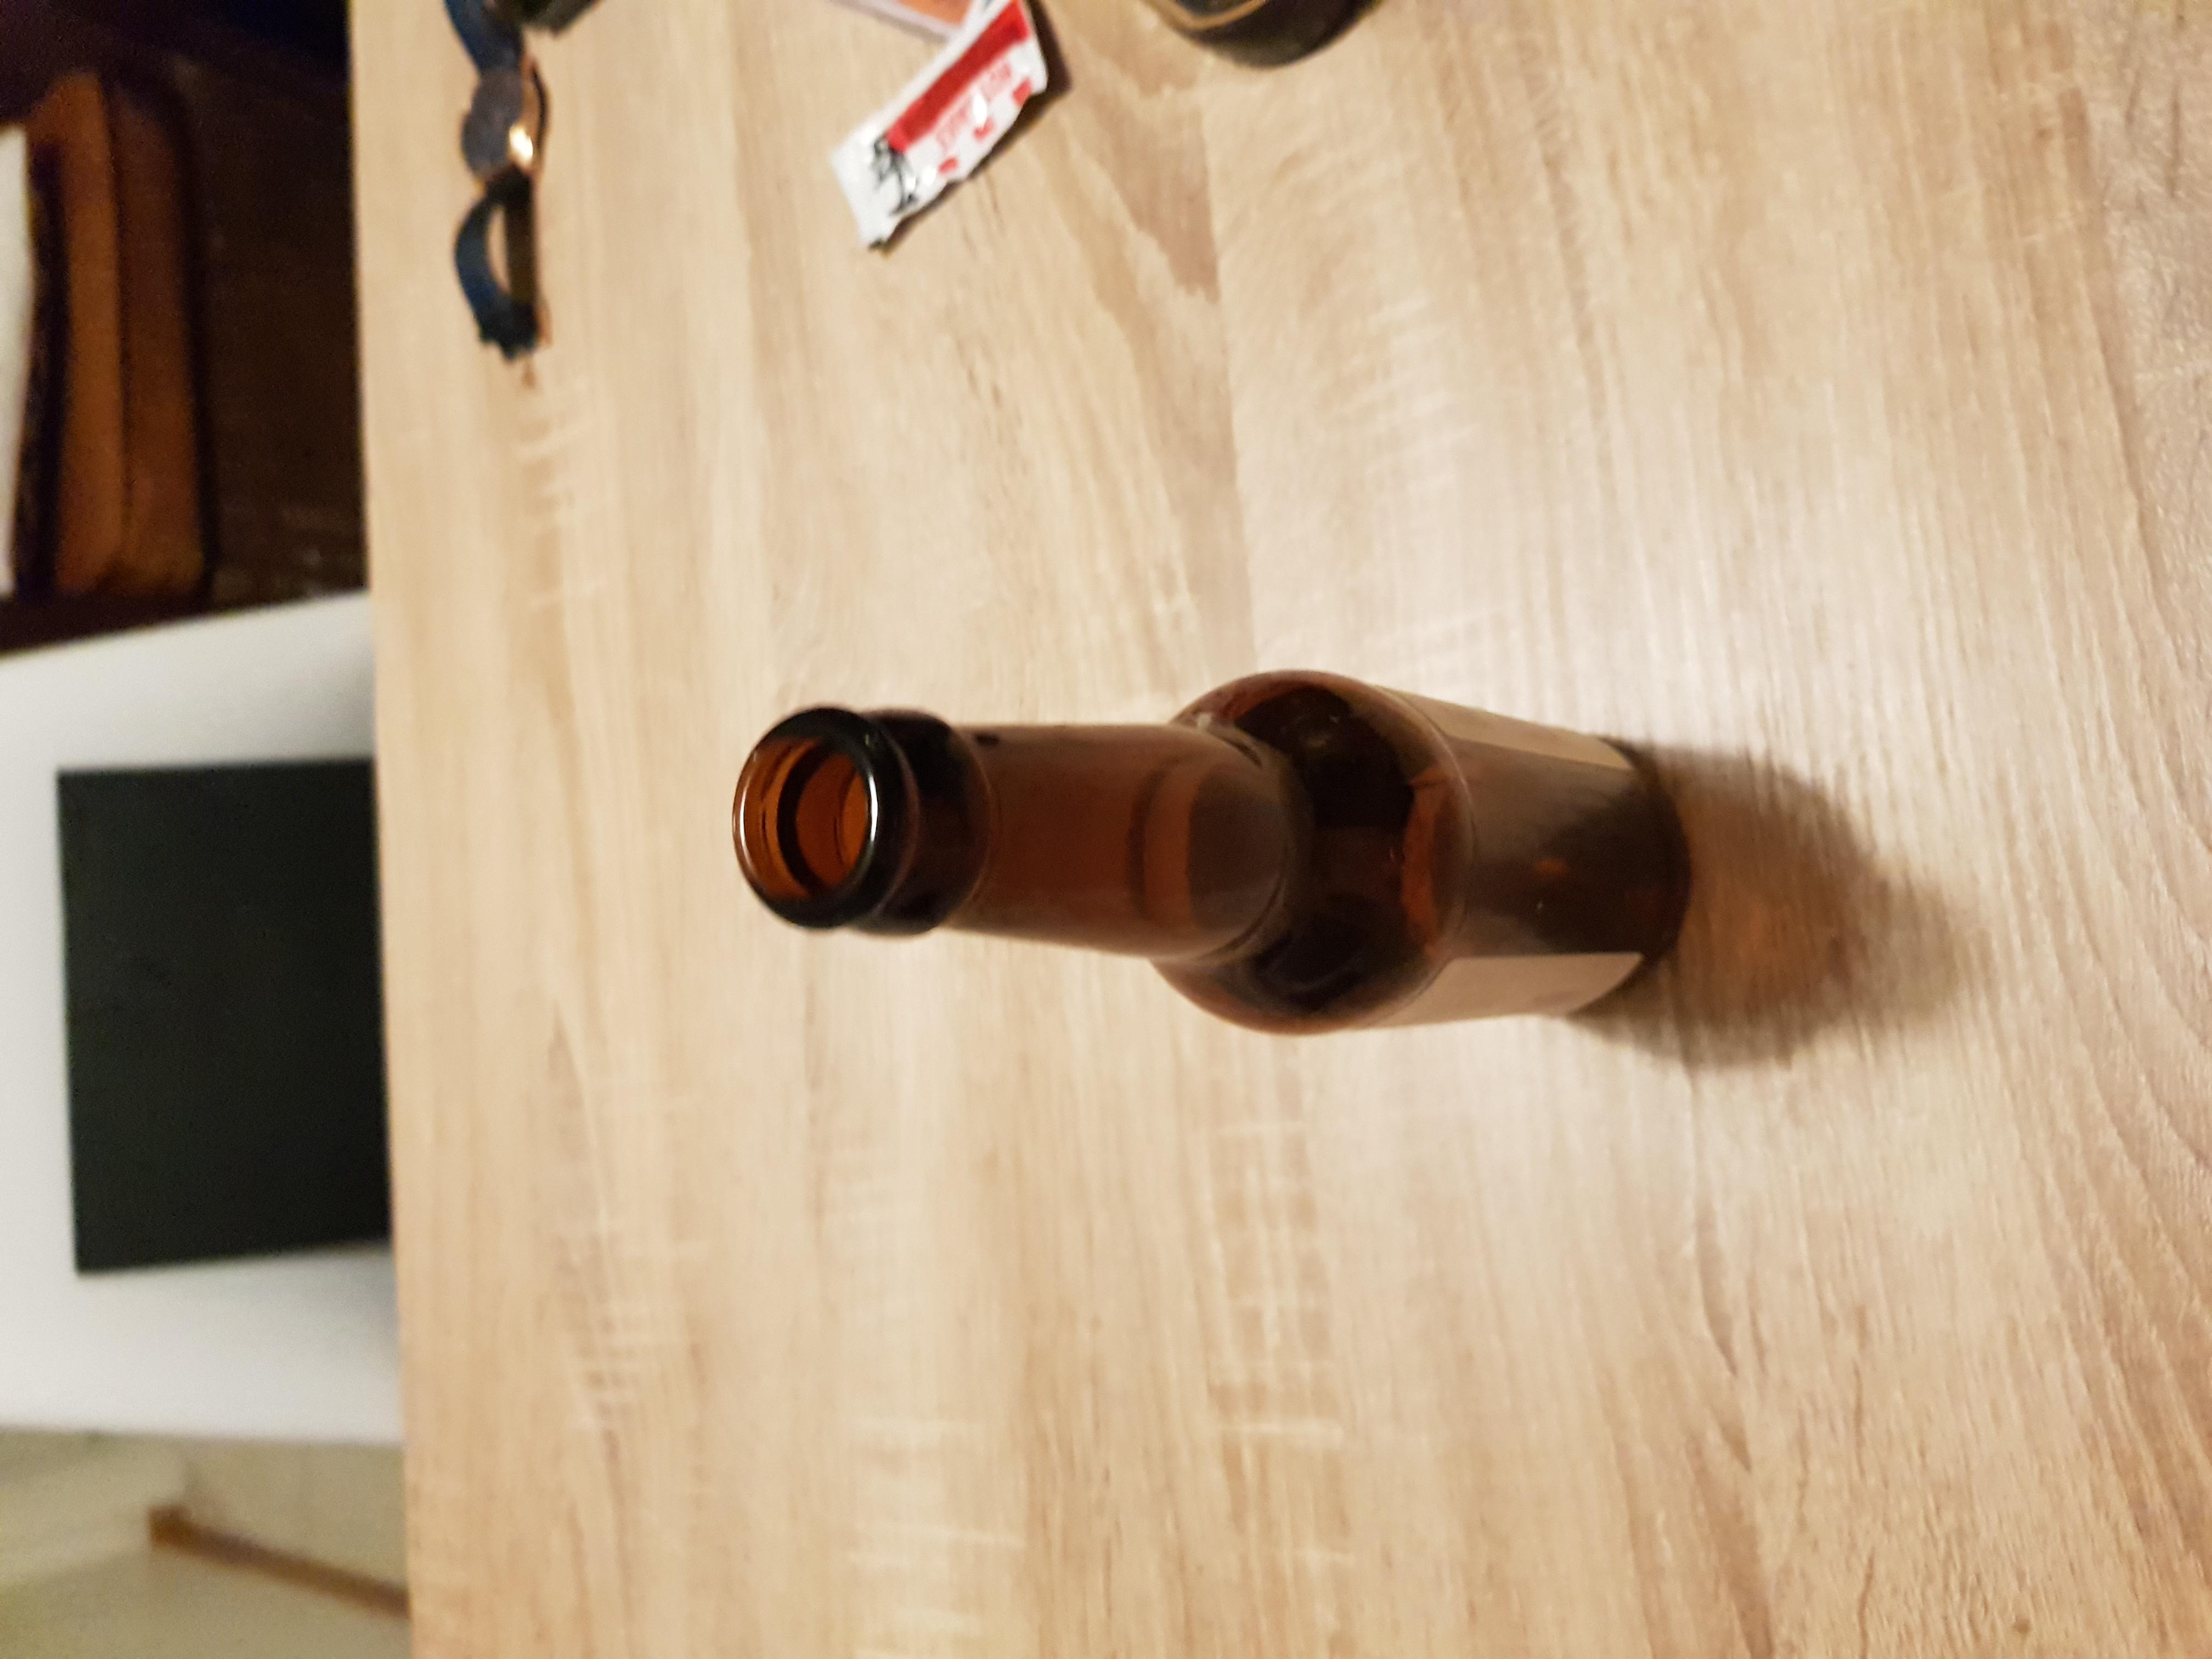Bottle: (728, 664, 1677, 1030)
